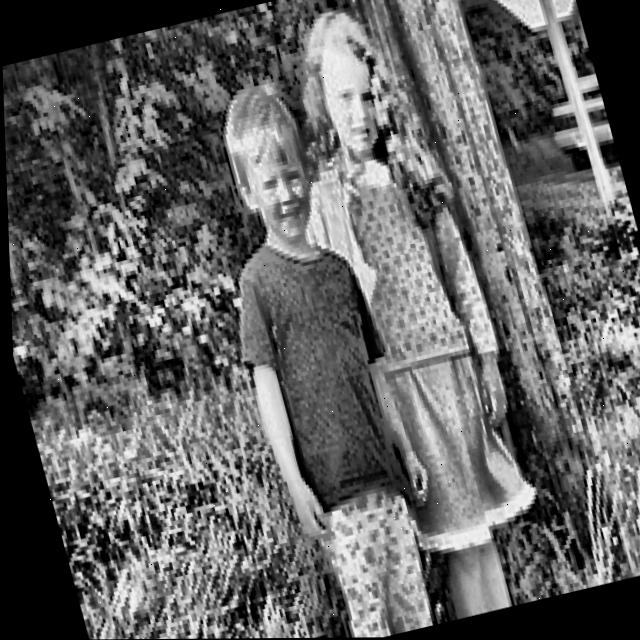light_vehicle: (537, 70, 620, 184)
